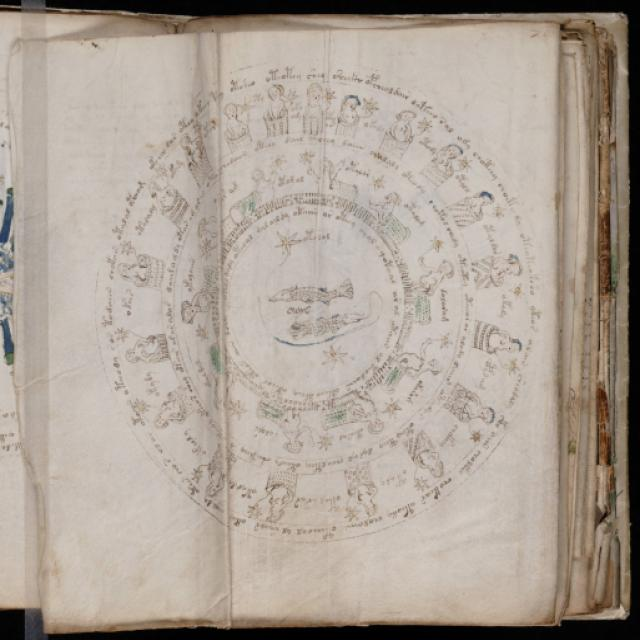ornament_circle: (87, 61, 547, 547)
